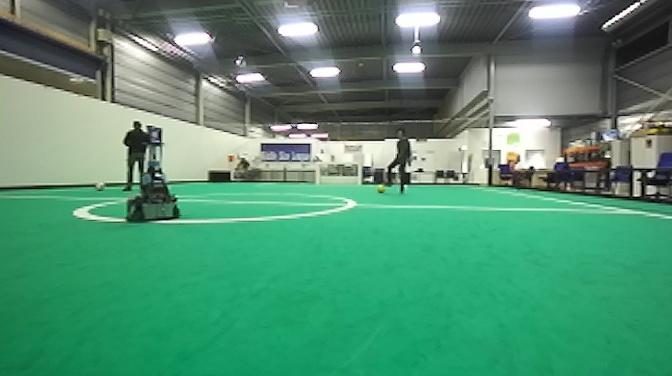ball: (93, 180, 106, 193), (375, 183, 387, 195)
goal: (315, 163, 364, 189)
goalpost: (356, 162, 363, 189), (314, 162, 320, 188)
human: (119, 118, 150, 195), (382, 126, 414, 195)
robot: (125, 141, 182, 224)
